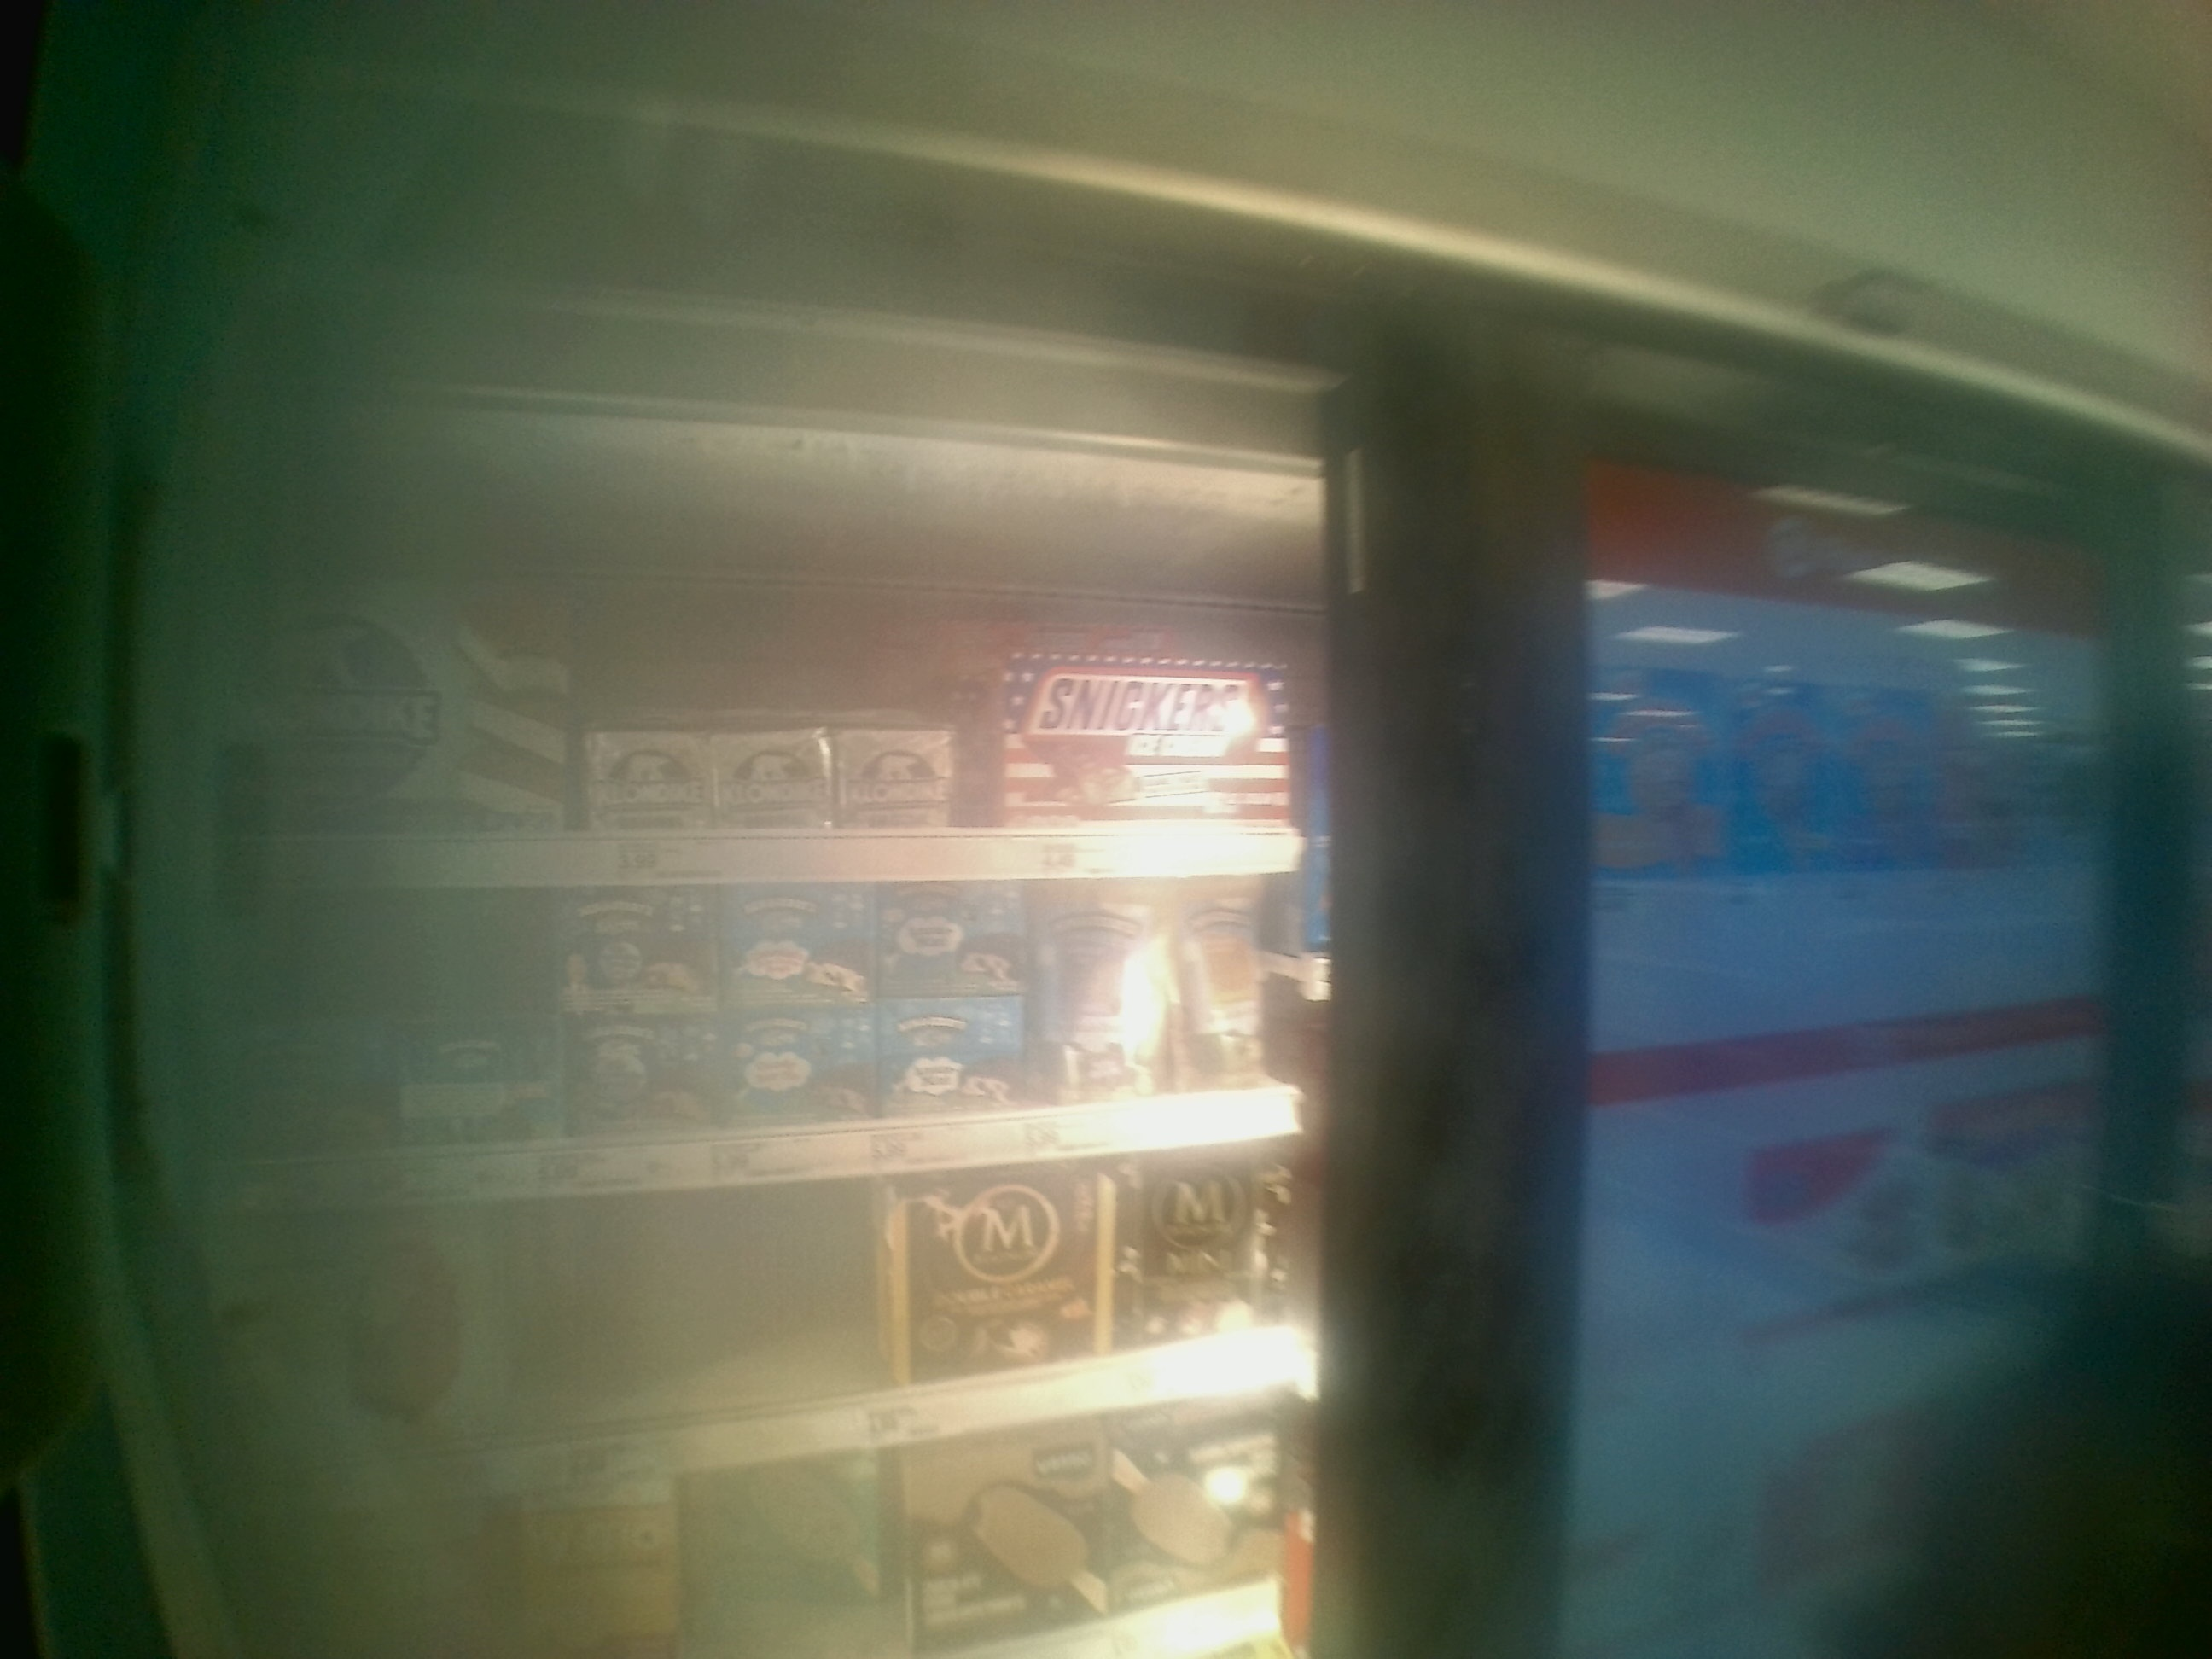ice-cream-shelf: (211, 551, 1327, 882), (211, 887, 1332, 1201)
